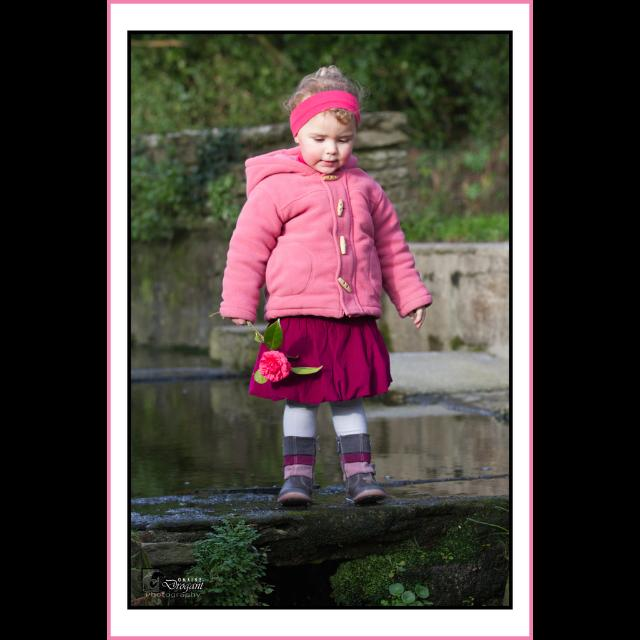Flower: (253, 348, 294, 397)
